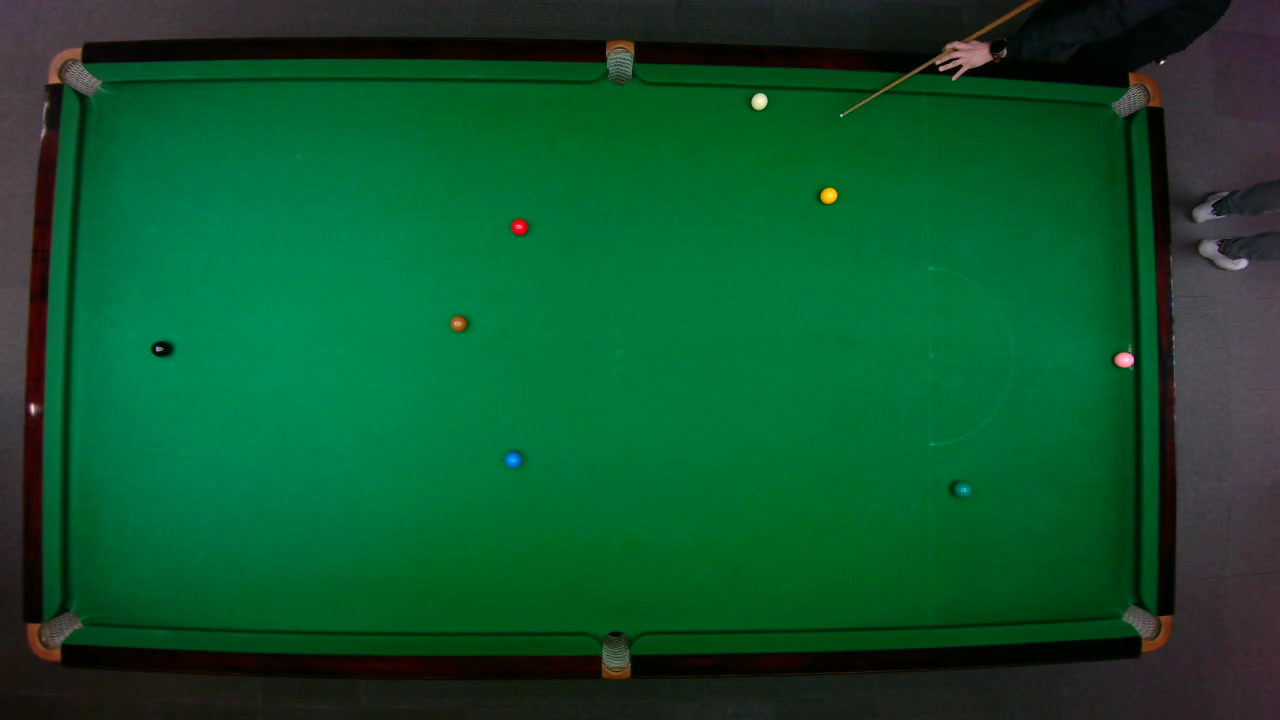bag: (25, 609, 83, 662), (45, 46, 101, 96), (1119, 603, 1171, 652), (1108, 72, 1161, 117), (600, 629, 629, 680), (605, 38, 633, 85)
black: (149, 339, 171, 357)
blue: (504, 450, 522, 468)
brown: (449, 314, 467, 332)
cue: (837, 0, 1042, 118)
green: (951, 480, 972, 497)
pink: (1112, 350, 1134, 368)
red: (509, 217, 528, 235)
white: (748, 91, 768, 110)
yellow: (818, 186, 838, 204)
zone: (927, 265, 1013, 445)
